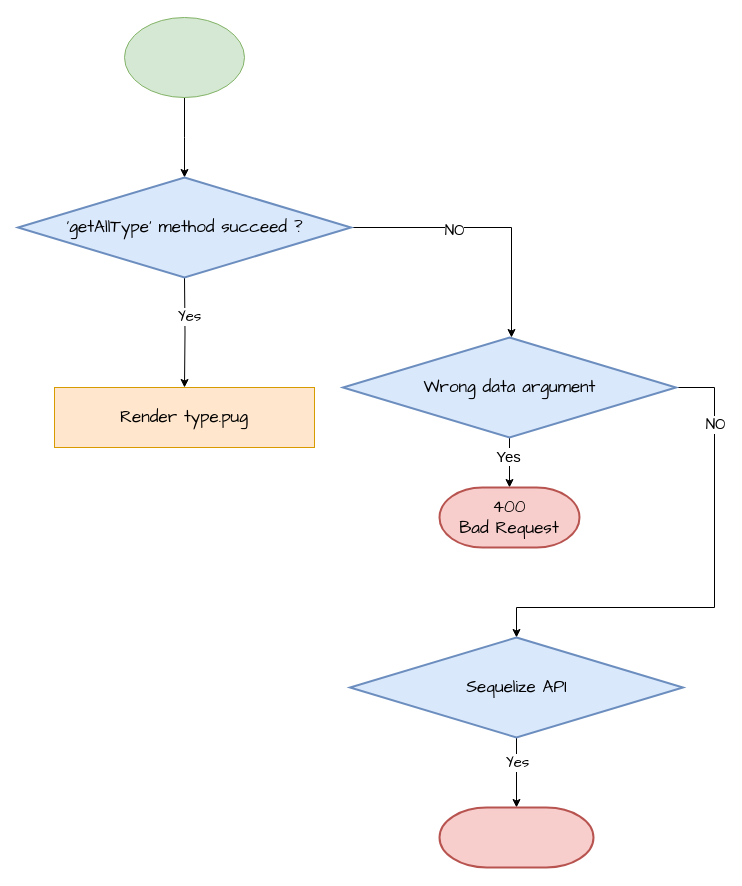
Image size: 742x886. Some labels were removed from this diagram. The centre of each missing label's shape, as x and y in pixels:
"/index" goes at [184,57].
"500 Inter Server Error" goes at [516,837].
